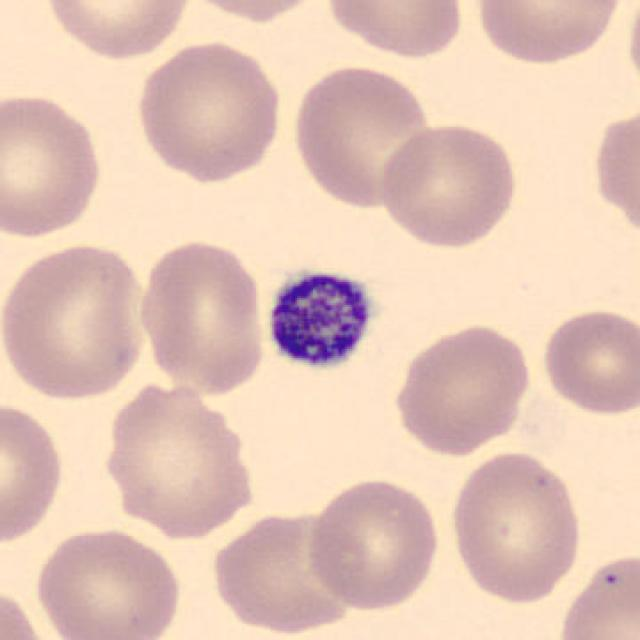Platelets: (258, 261, 378, 374)
RBC: (98, 376, 261, 541), (0, 238, 151, 404), (132, 37, 286, 185), (288, 60, 437, 212), (446, 448, 587, 606), (134, 235, 270, 396), (208, 504, 363, 636), (389, 321, 535, 458), (302, 474, 444, 612), (377, 118, 521, 252), (30, 523, 184, 640), (0, 90, 107, 241), (537, 303, 638, 418), (470, 0, 628, 67), (0, 397, 68, 548), (38, 0, 198, 62), (322, 0, 469, 62), (553, 548, 640, 640), (588, 102, 638, 250), (176, 0, 331, 25), (0, 580, 53, 640), (624, 0, 640, 106)
